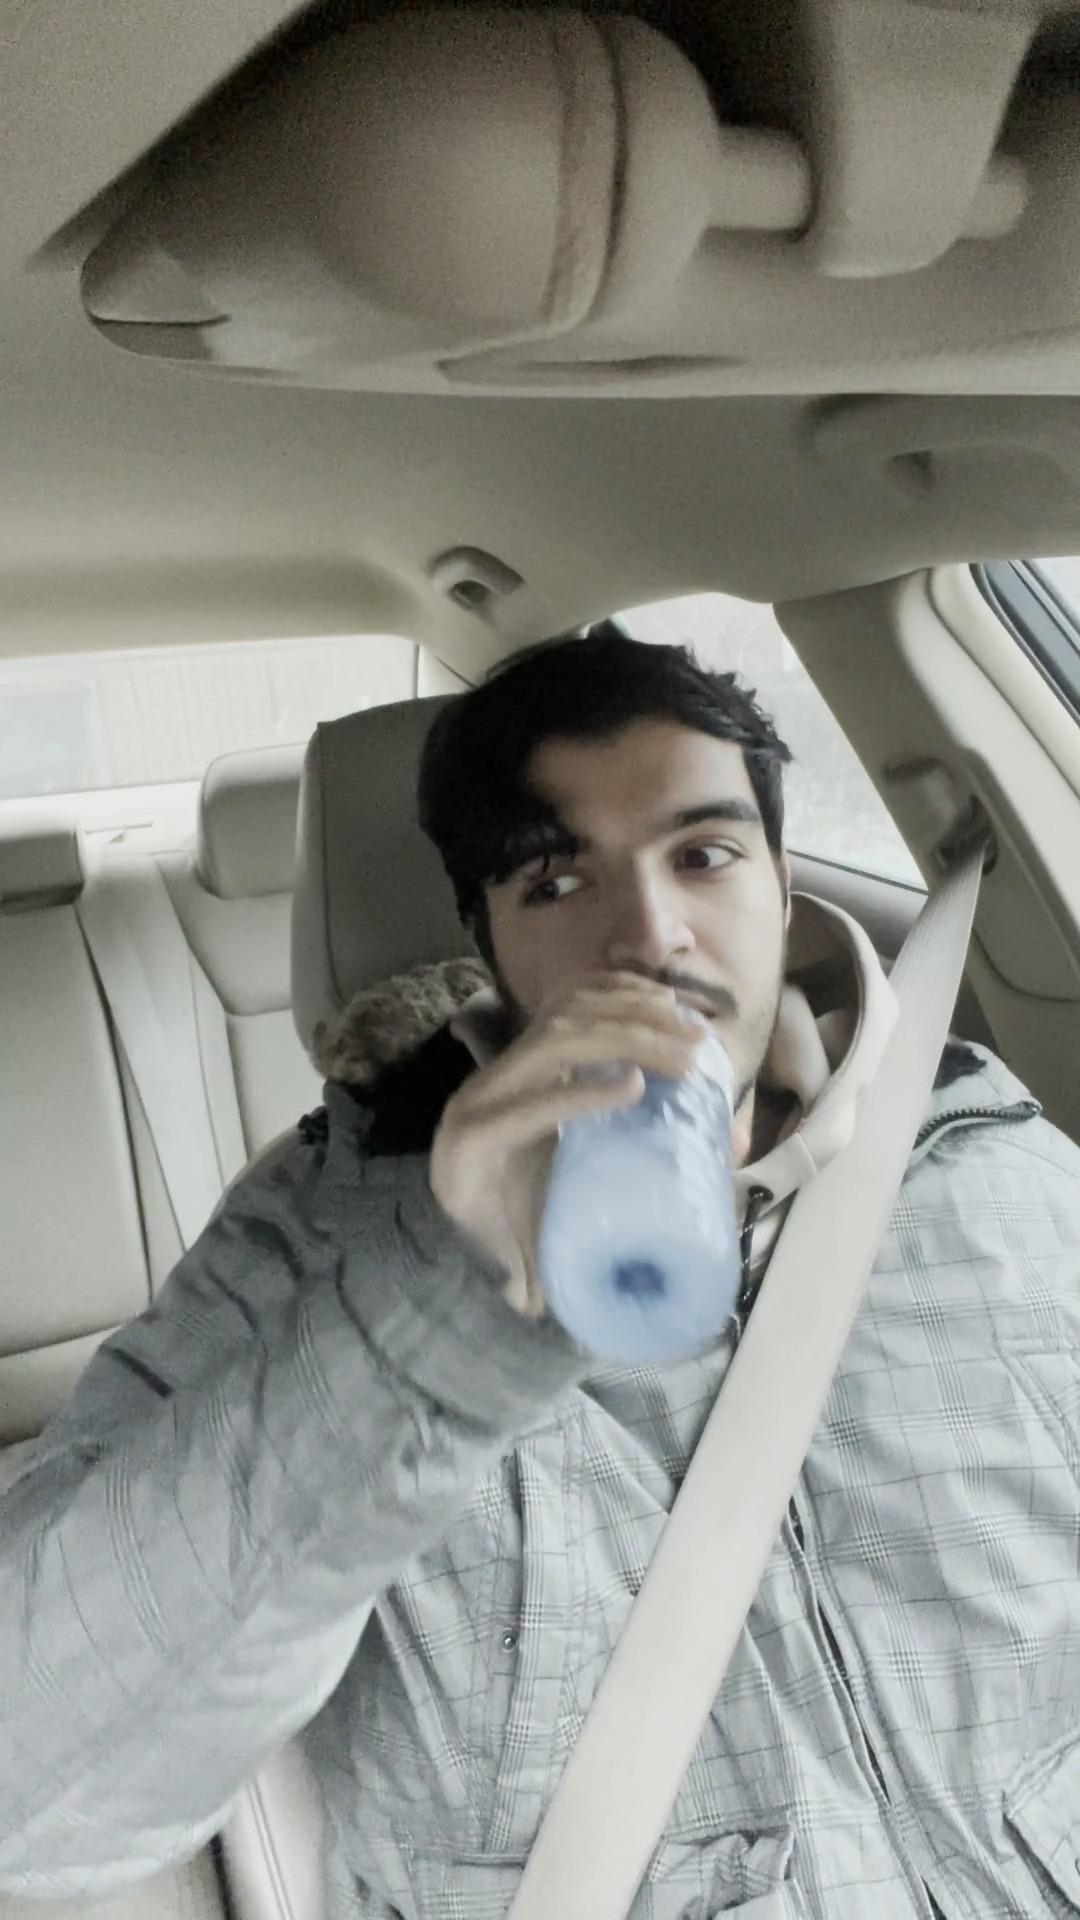drinking: (500, 990, 765, 1340)
seatbelt: (328, 1150, 1080, 1920)
